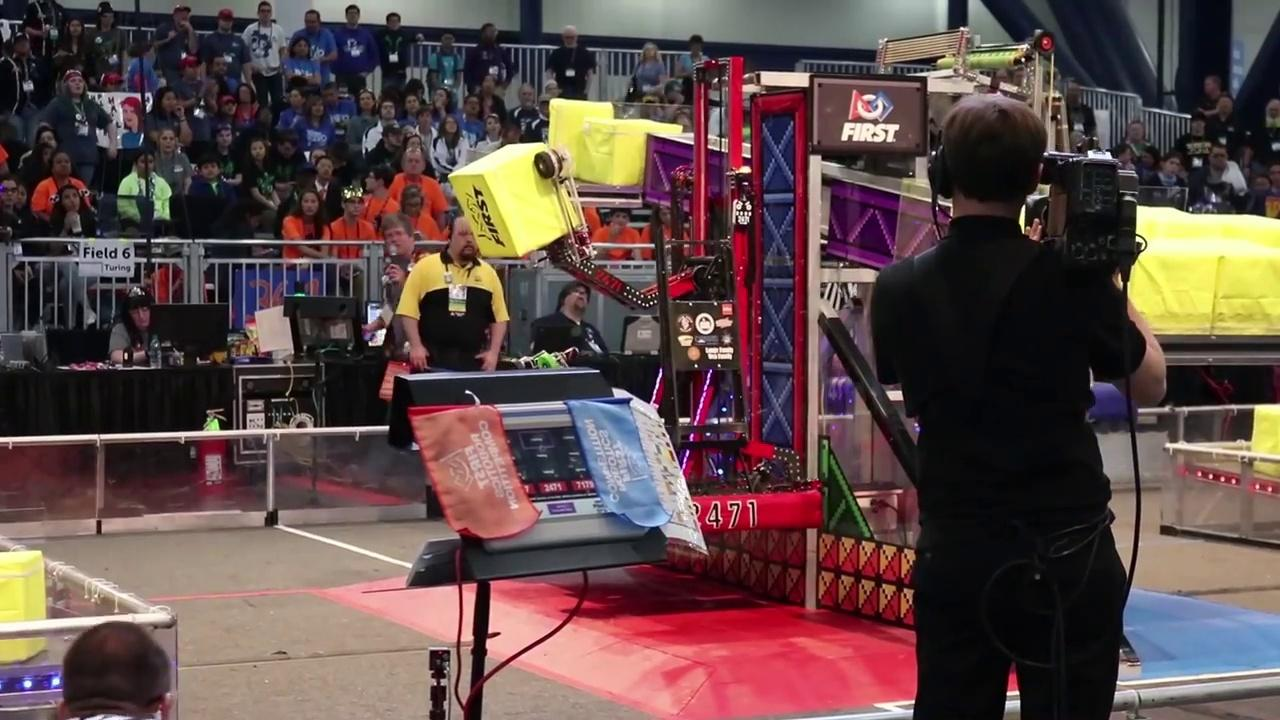robot: (646, 212, 824, 529)
